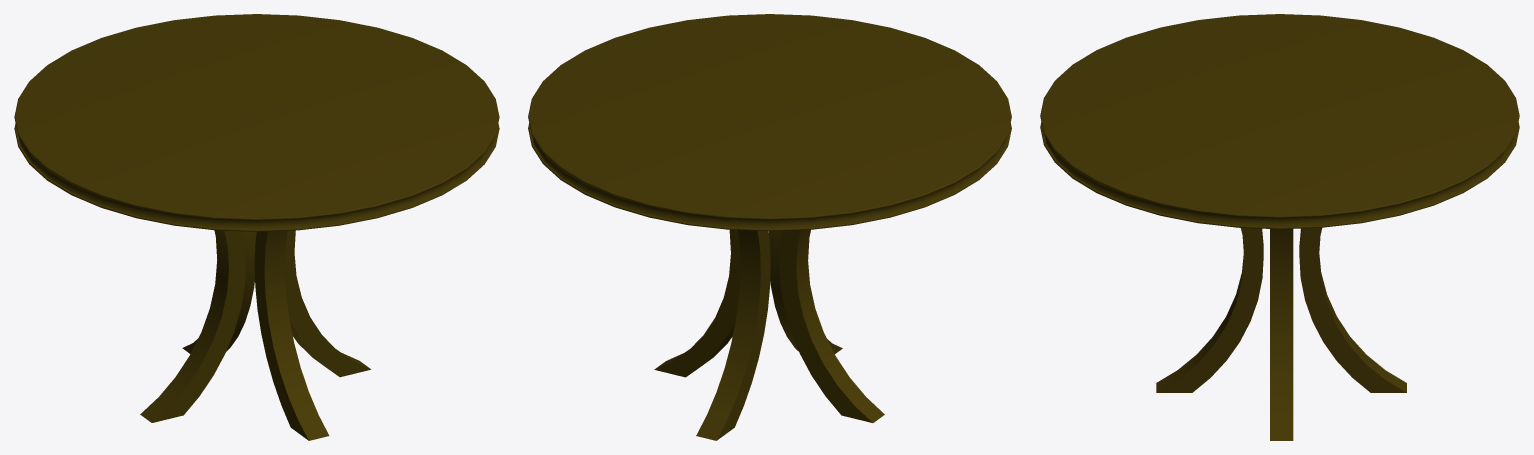
File: tbl.dae
3 renders of one model, left to right at view 1: azimuth 30°, elevation 25°; view 2: azimuth 150°, elevation 25°; view 3: azimuth 270°, elevation 25°, orthographic.
Visible parts, largest first — view 1: group_4 (×3), group_1, group_2, group_0, group_3; view 2: group_4 (×3), group_3, group_2, group_0, group_1; view 3: group_4 (×3), group_0, group_3, group_1.
Part boxes in pixels (<box>): group_4 (×3): <box>14,14,499,231</box>; group_1: <box>254,230,329,440</box>; group_2: <box>140,230,246,422</box>; group_0: <box>285,230,371,377</box>; group_3: <box>182,231,256,353</box>; group_4 (×3): <box>528,14,1011,231</box>; group_3: <box>696,230,770,440</box>; group_2: <box>779,229,884,422</box>; group_0: <box>654,229,740,377</box>; group_1: <box>768,230,842,353</box>; group_4 (×3): <box>1040,14,1519,229</box>; group_0: <box>1270,229,1293,440</box>; group_3: <box>1299,227,1406,392</box>; group_1: <box>1156,228,1263,392</box>.
Size of the model in its own units: 55.6 by 55.6 by 34.95.
